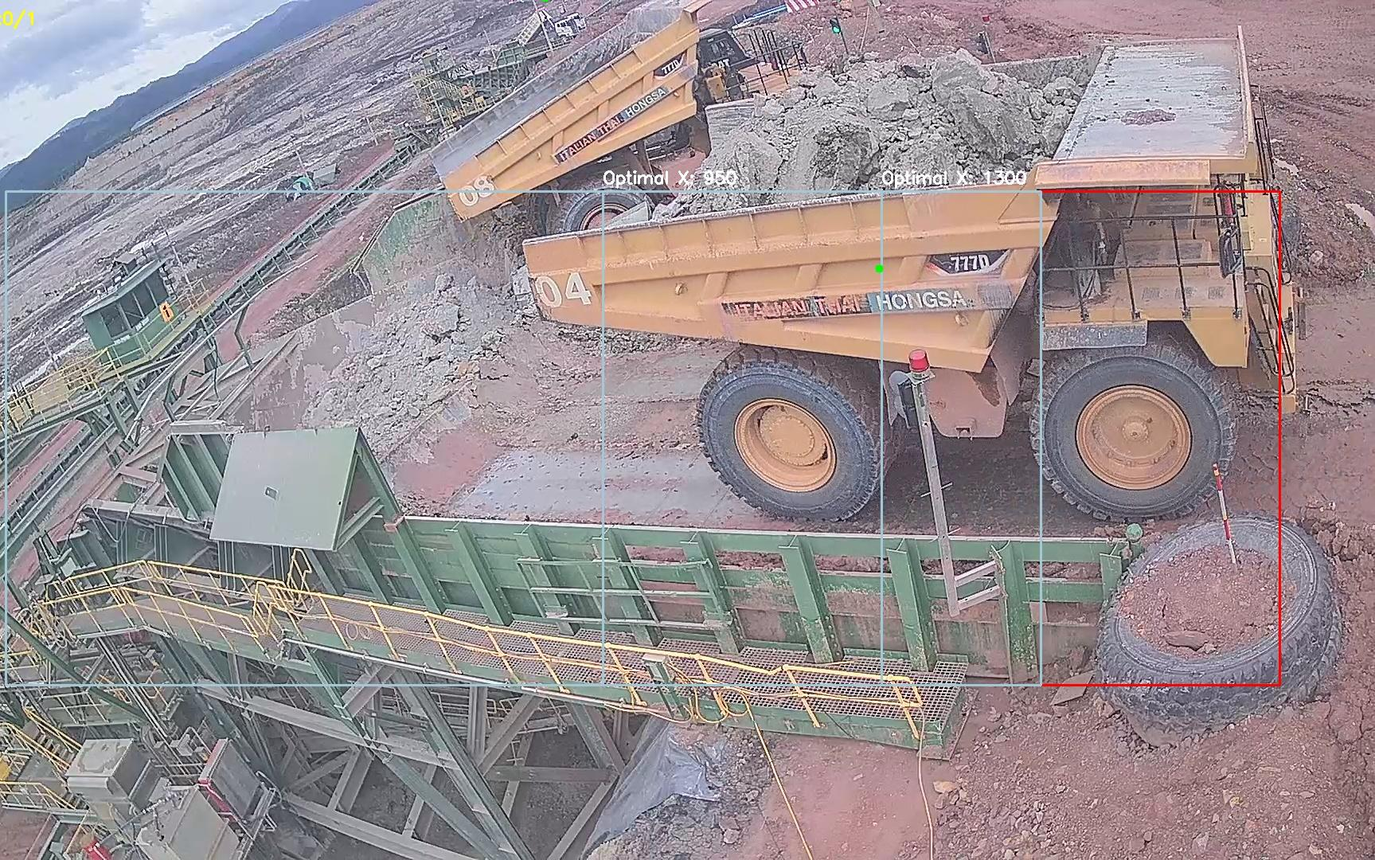company: (711, 274, 975, 331)
full_load: (704, 42, 1049, 214)
mining_truck: (514, 31, 1301, 534)
tail_number: (525, 257, 603, 322)
truck_size: (928, 246, 1011, 279)
